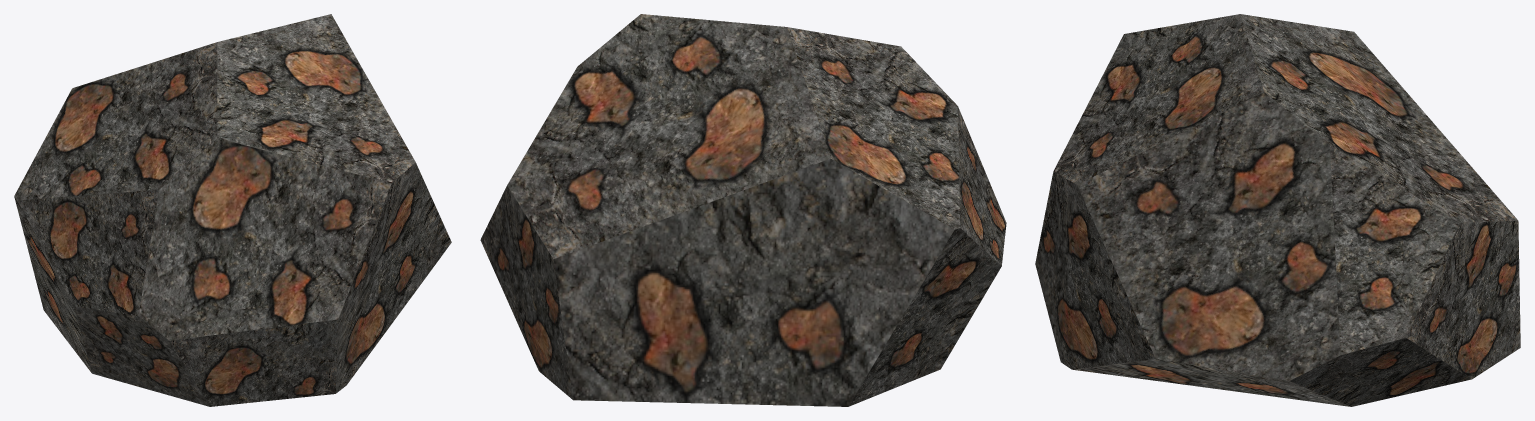
Rendered from iron_ore_4.fbx.
3 renders of one model, left to right at view 1: azimuth 30°, elevation 25°; view 2: azimuth 150°, elevation 25°; view 3: azimuth 270°, elevation 25°, orthographic. The views are drawn at different scales.
Parts seen in each view (by area): view 1: Rock_Type2_04_mesh; view 2: Rock_Type2_04_mesh; view 3: Rock_Type2_04_mesh.
Boxes of the visible parts, x1=… form: Rock_Type2_04_mesh: x1=14, y1=14, x2=451, y2=406; Rock_Type2_04_mesh: x1=480, y1=14, x2=1006, y2=406; Rock_Type2_04_mesh: x1=1035, y1=14, x2=1520, y2=406.
Bounding box in the file's own units: 0.8101 × 0.5717 × 0.7651.
